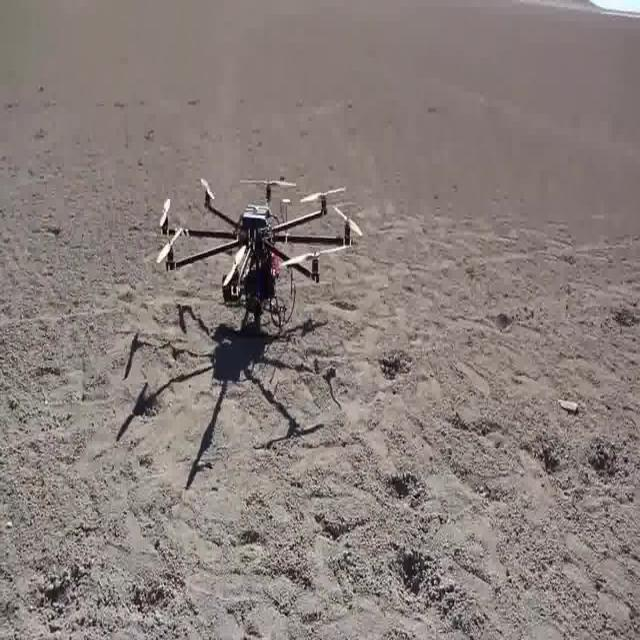drone: (142, 168, 372, 378)
